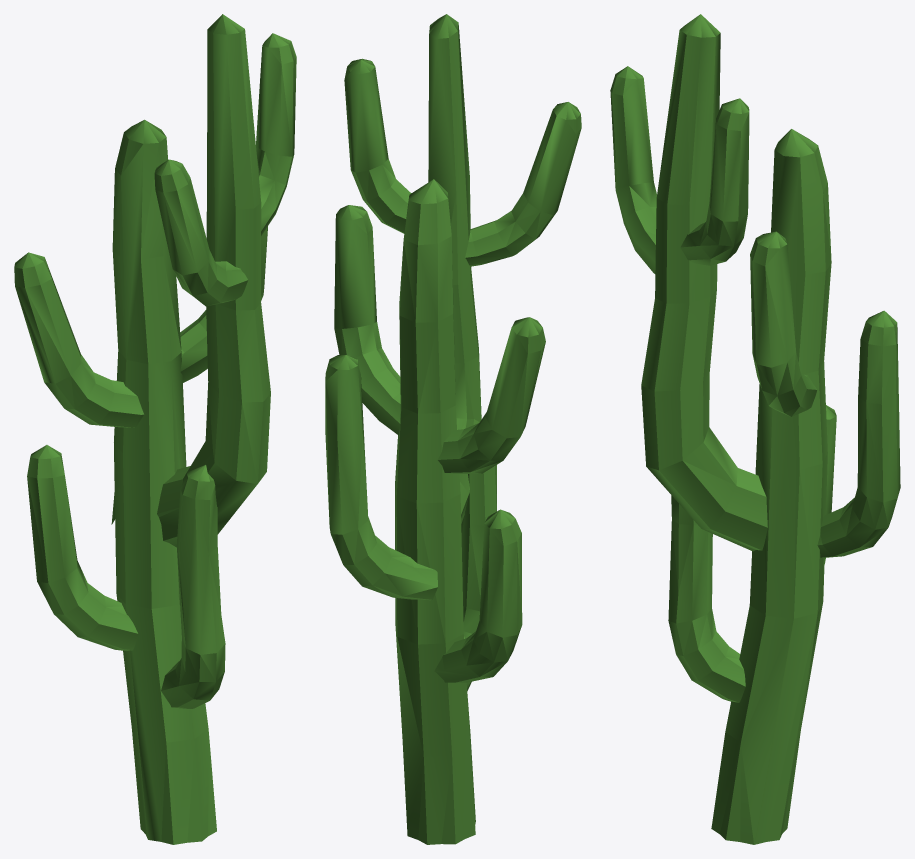
Rendered from ds_cactus_c.glb.
3 views of the same model, side by side, from view 1: azimuth 30°, elevation 25°; view 2: azimuth 150°, elevation 25°; view 3: azimuth 270°, elevation 25° (orthographic). The views are drawn at different scales.
Visible parts, largest first — view 1: ds_cactus_c; view 2: ds_cactus_c; view 3: ds_cactus_c.
Boxes of the visible parts, x1,y1,x2,y2 form: ds_cactus_c: (14,14,296,844); ds_cactus_c: (325,14,581,844); ds_cactus_c: (610,14,900,844).
Bounding box in the file's own units: 1.03 × 3.4 × 1.08.
